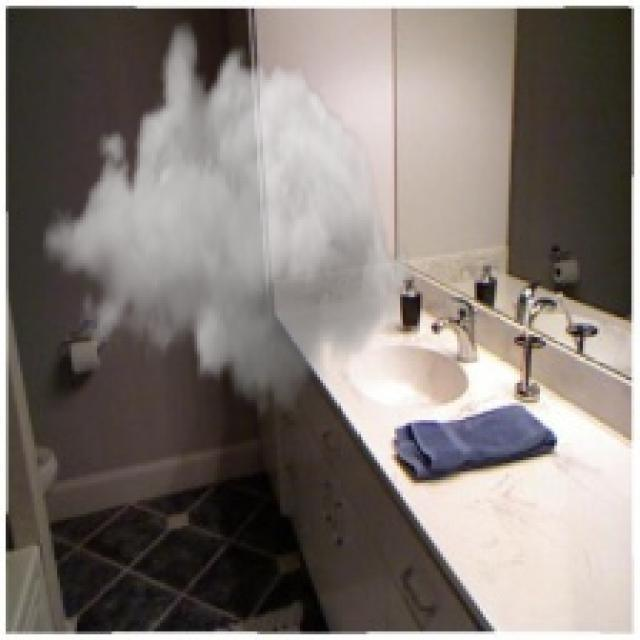Smoke: (39, 17, 414, 423)
